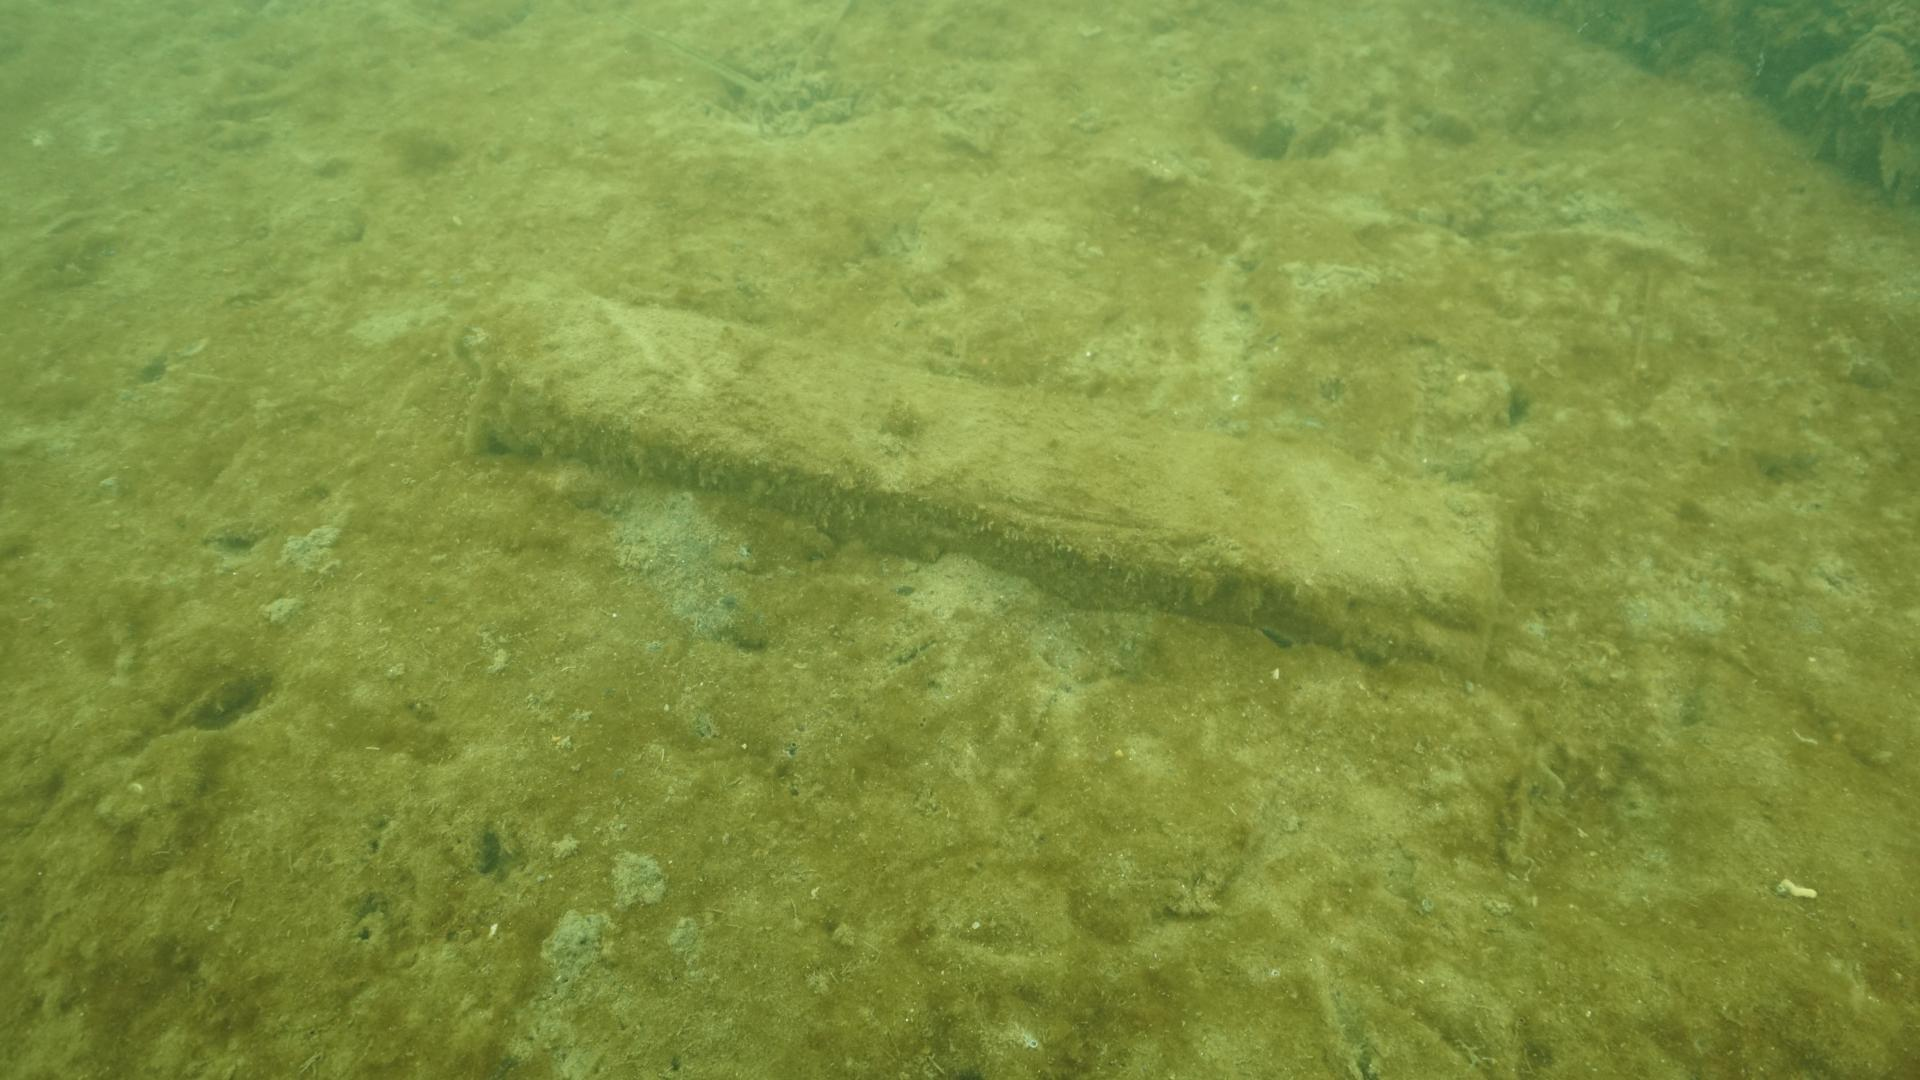wood: (447, 266, 1511, 680)
